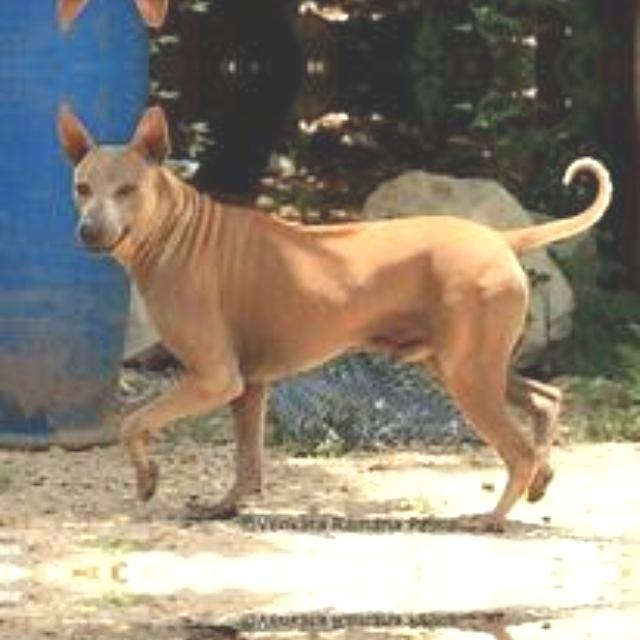dog: (39, 118, 619, 570), (39, 575, 619, 640), (39, 0, 619, 13)
